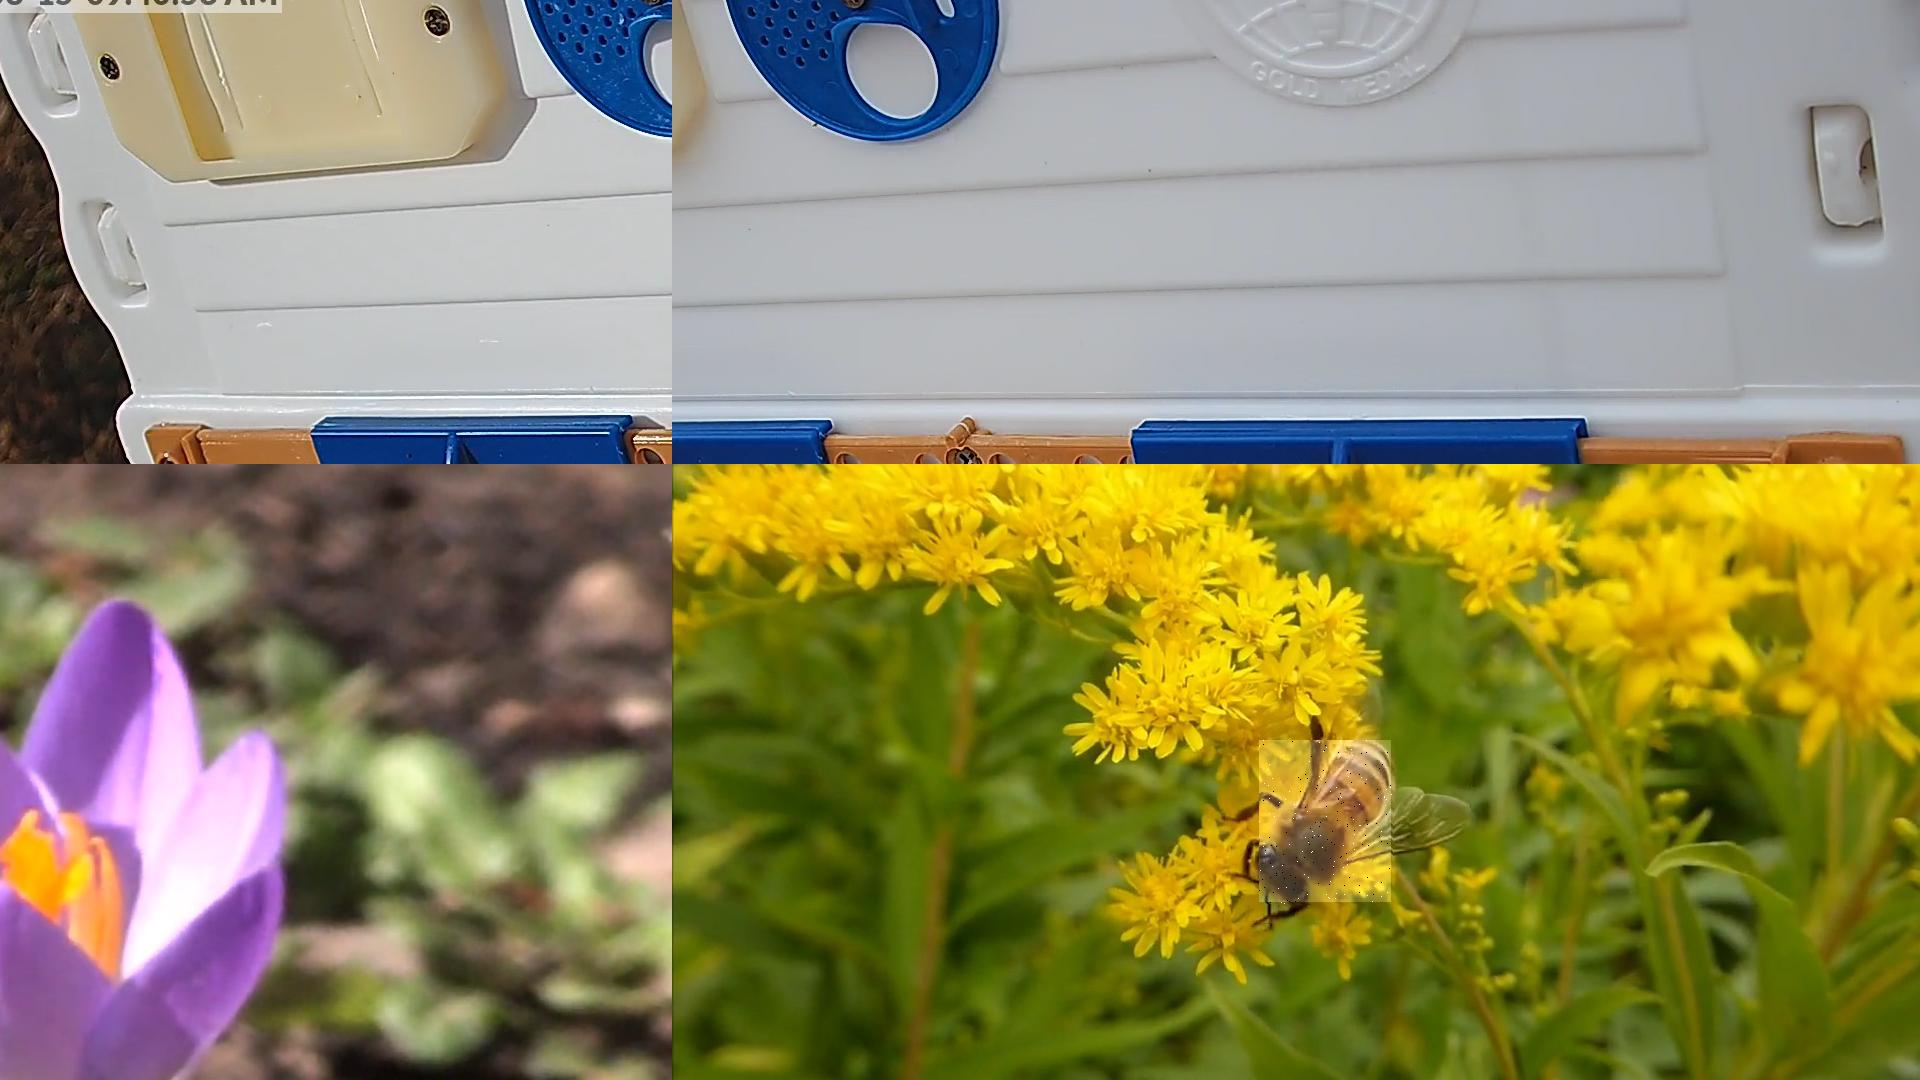bee: (1259, 741, 1395, 906)
